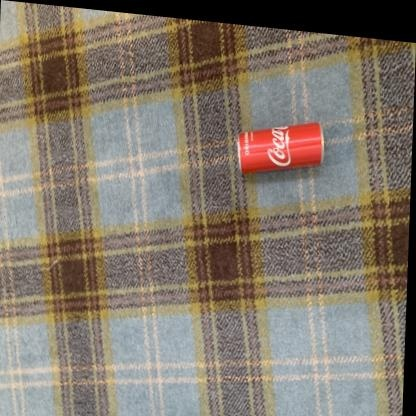trash: (238, 123, 323, 173)
